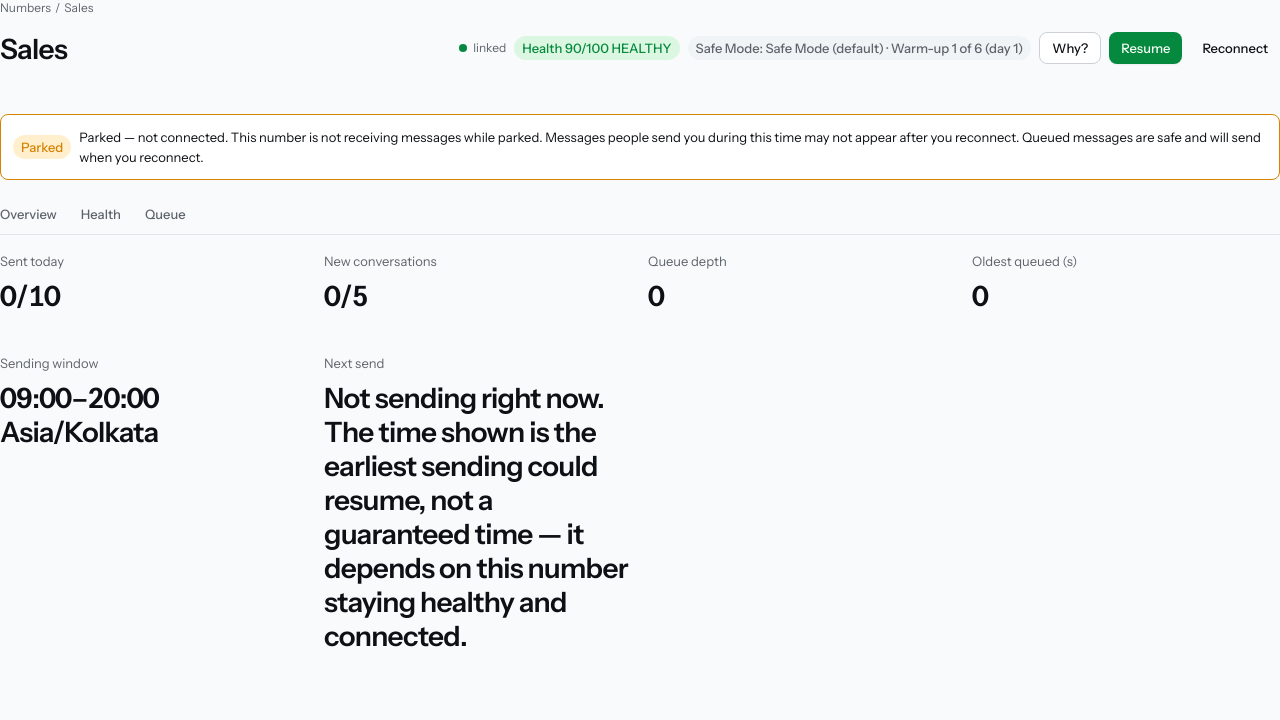
Test: InstanceDetailPage › resuming_a_number_confirms_calls_online_and_toasts_success
Click the button with test id "instance-detail-resume-button" at (1146, 48), box [1109,32,1182,64]
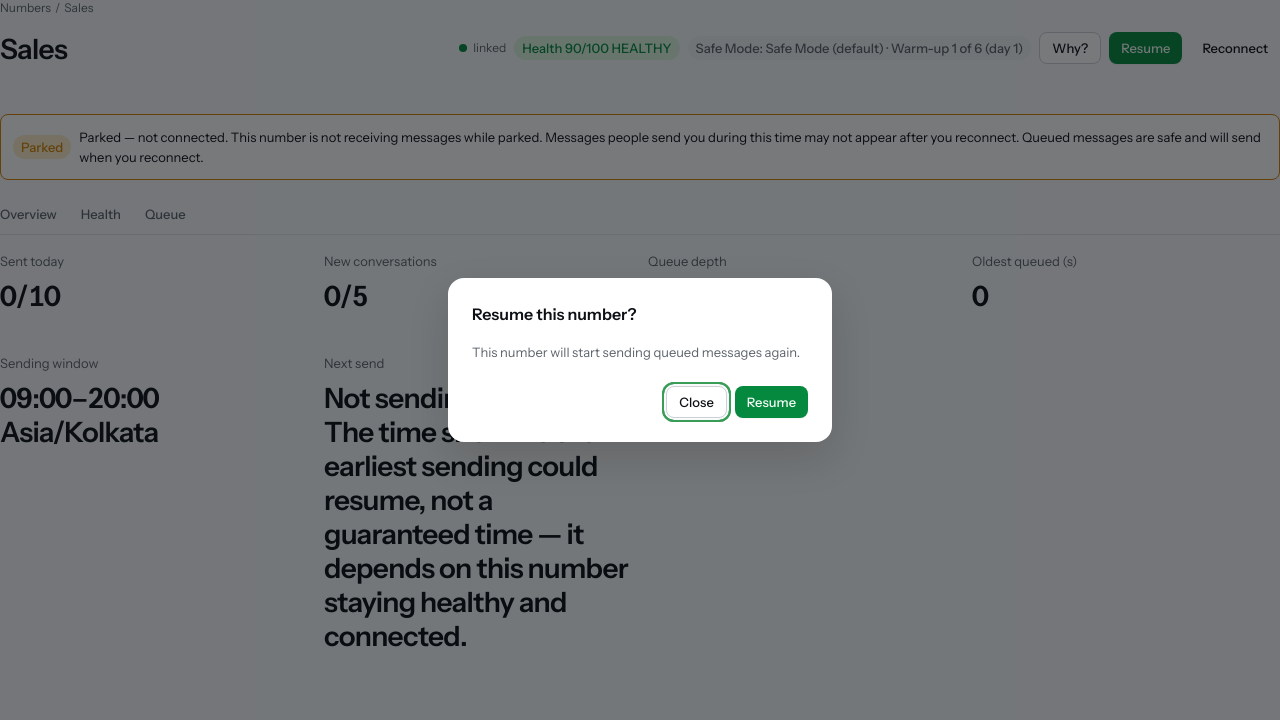
Click the button "Resume" at (771, 402), box [735,386,808,418]
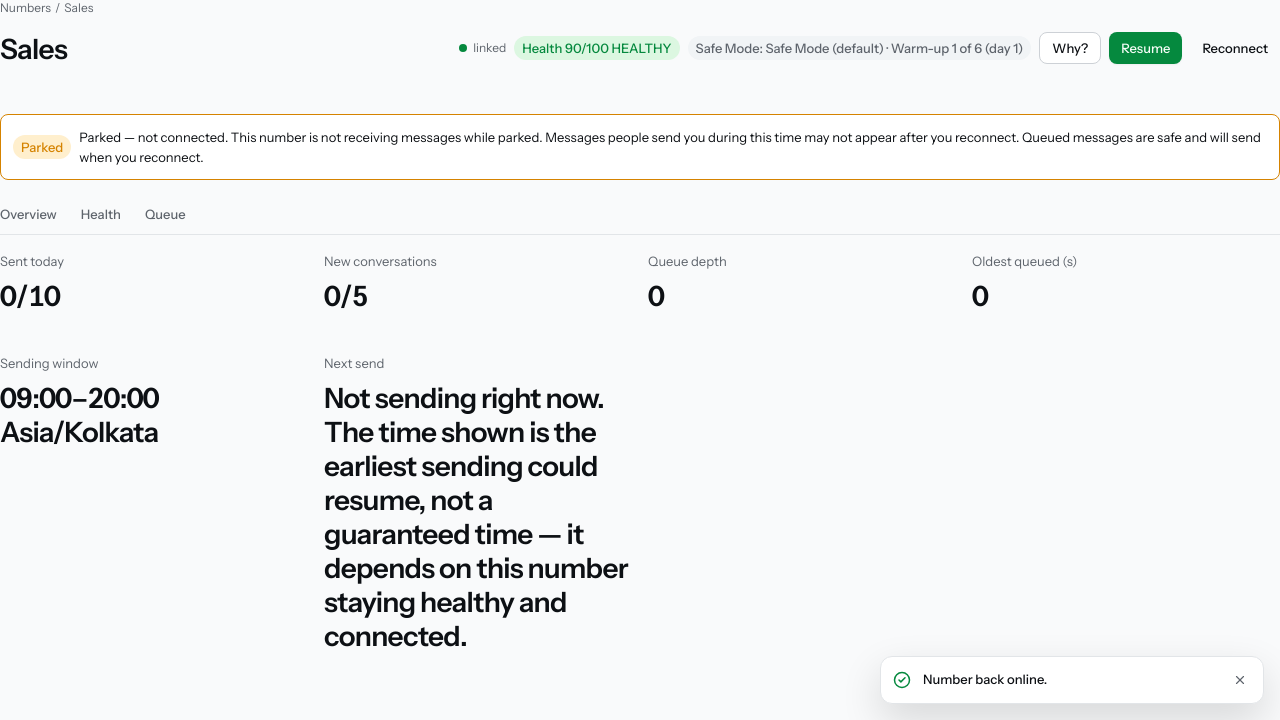
Now the text "Number back online." is shown, box [923,671,1047,687]
